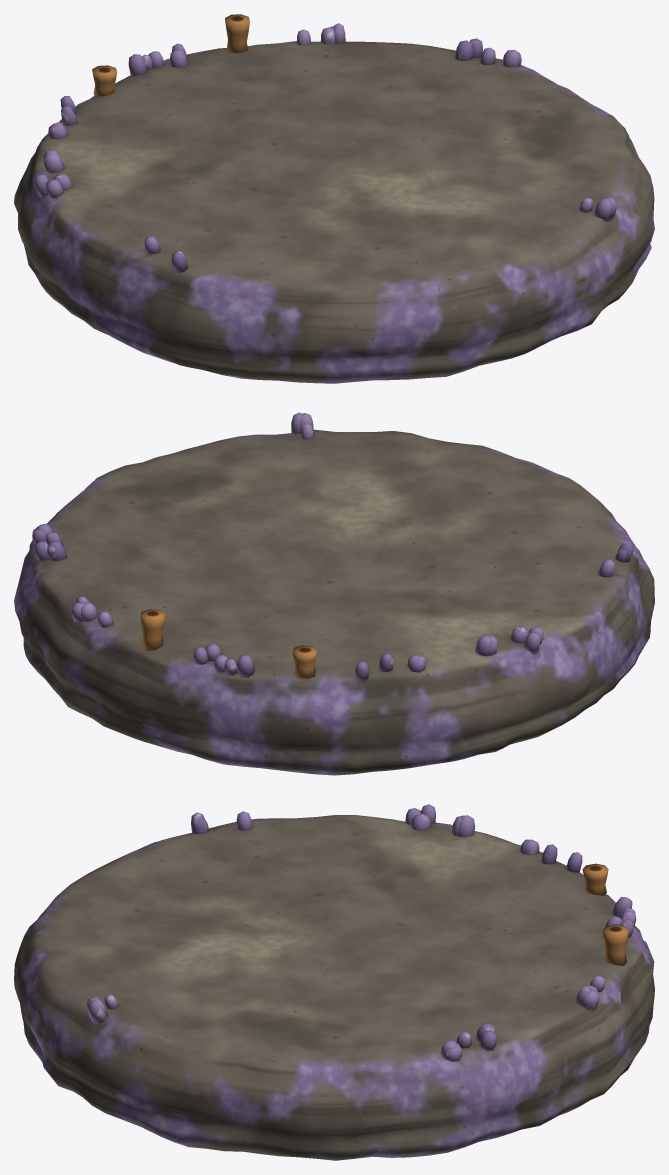
Rendered from aquatic_plinth.glb.
3 renders of one model, top to bottom at view 1: azimuth 30°, elevation 25°; view 2: azimuth 150°, elevation 25°; view 3: azimuth 270°, elevation 25°, orthographic.
Visible parts, largest first — view 1: AquaticPlinth; view 2: AquaticPlinth; view 3: AquaticPlinth.
Part boxes in pixels (bbox=[...]): AquaticPlinth: bbox=[14, 14, 654, 383]; AquaticPlinth: bbox=[14, 412, 654, 775]; AquaticPlinth: bbox=[14, 804, 654, 1160].
Size of the model in its own units: 1.96 by 0.4524 by 1.96.
Materials: 1 (1 with a texture image).
